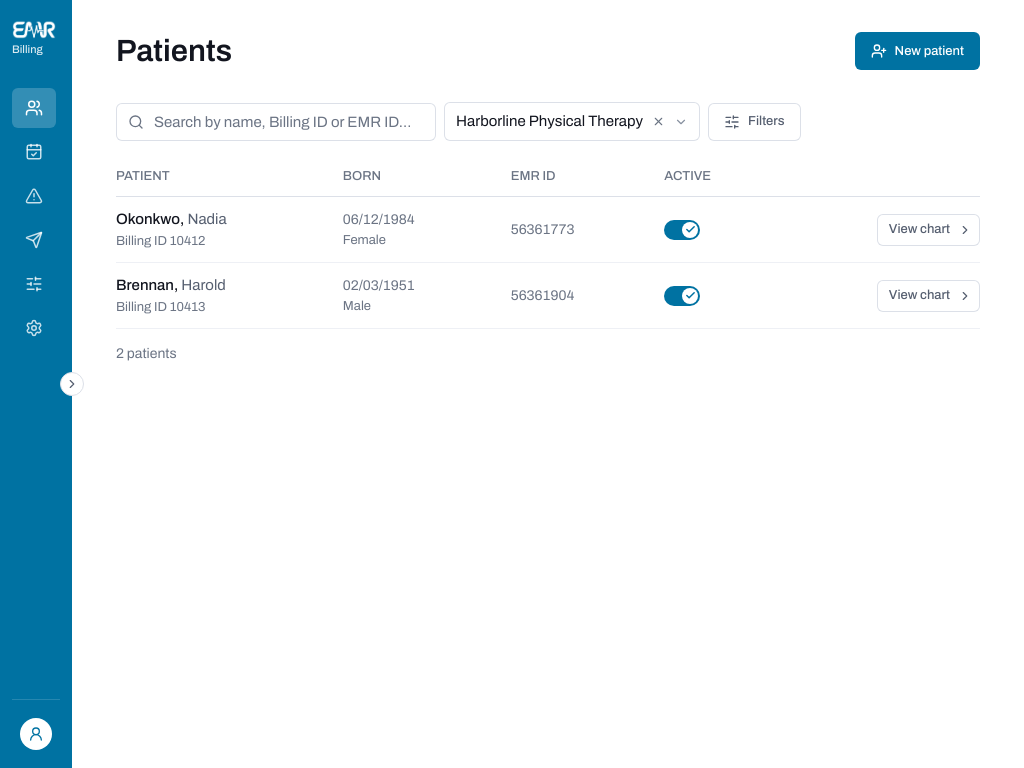
it: Patients — the roster › filters by status in the drawer
Click the button "Filters" at (754, 122), box [708, 103, 801, 141]
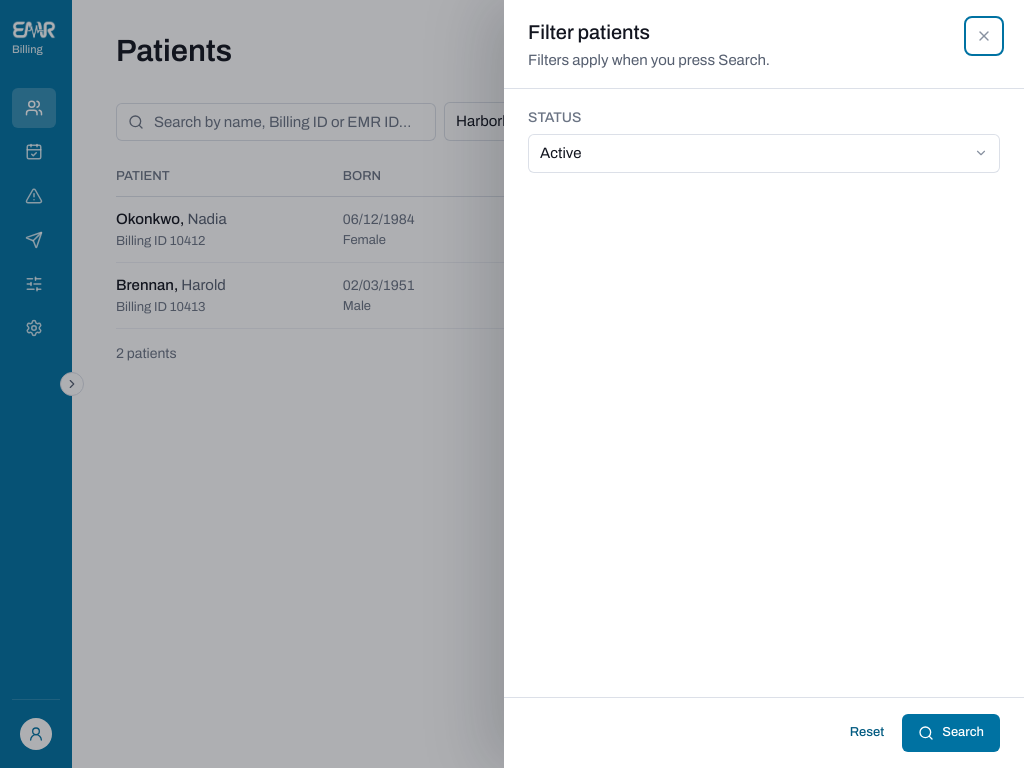
Now the text "Filters apply when you press Search." is shown, box [528, 52, 770, 68]
Click the dropdown named "Status" at (764, 153), box [528, 134, 1000, 172]
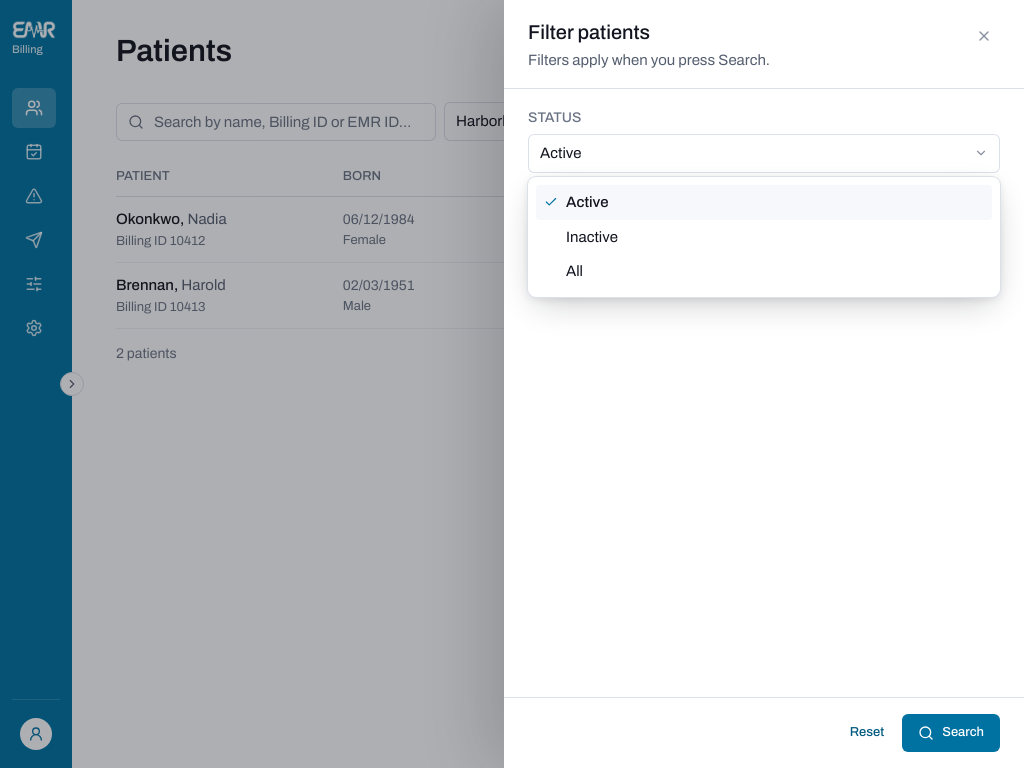
Click the option "Inactive" at (592, 236), box [566, 228, 618, 244]
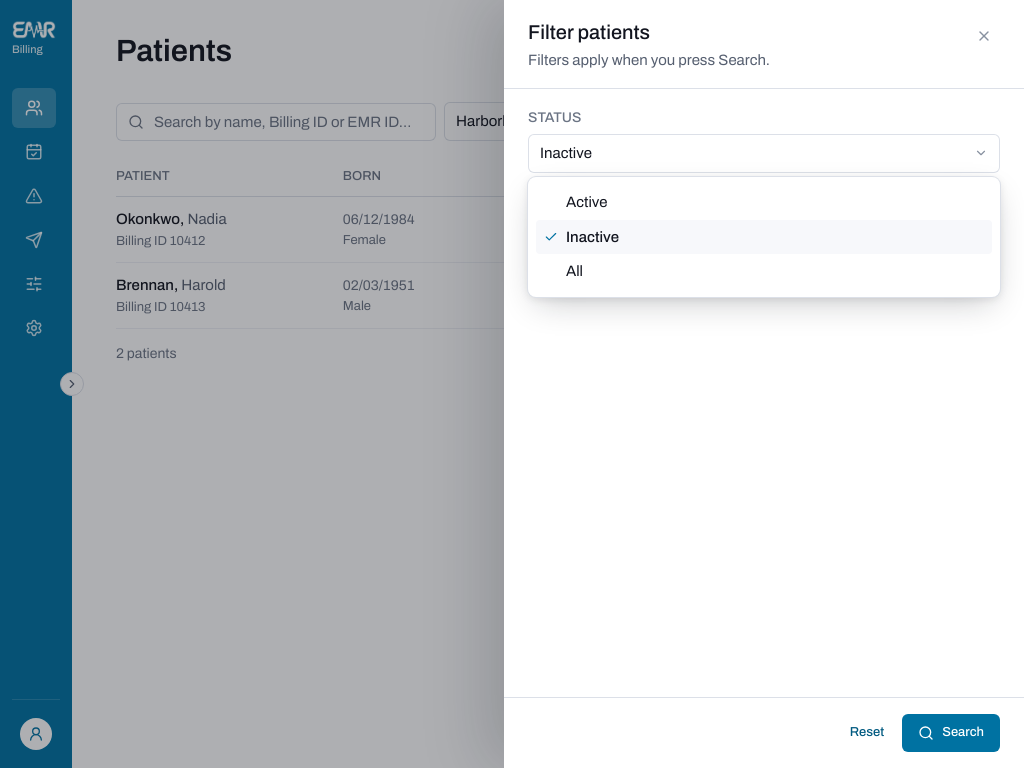
Click the button "Search" at (951, 733), box [902, 714, 1000, 752]
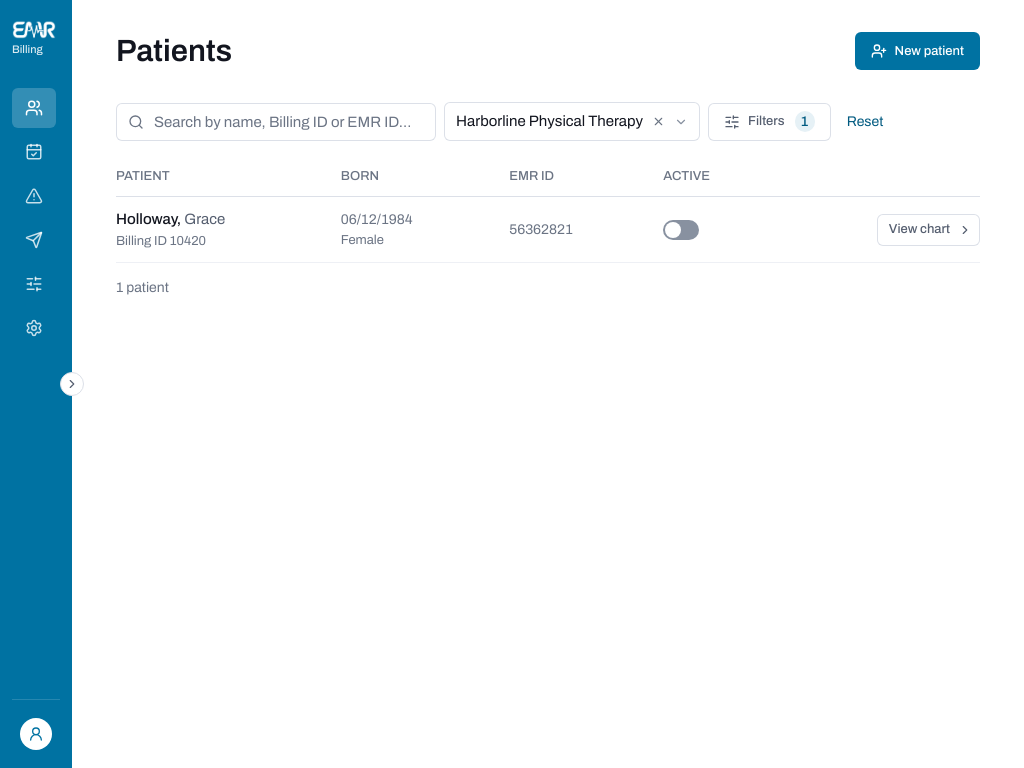
Now the dialog is gone
Now the button with aria-label "Filters, 1 on" is shown, box [708, 103, 831, 141]
